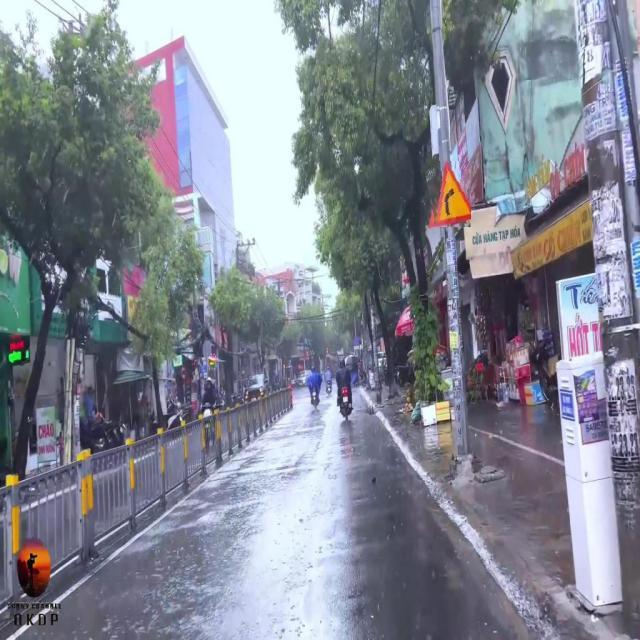201-cho-ngoat-nguy-hiem: (426, 164, 474, 230)
